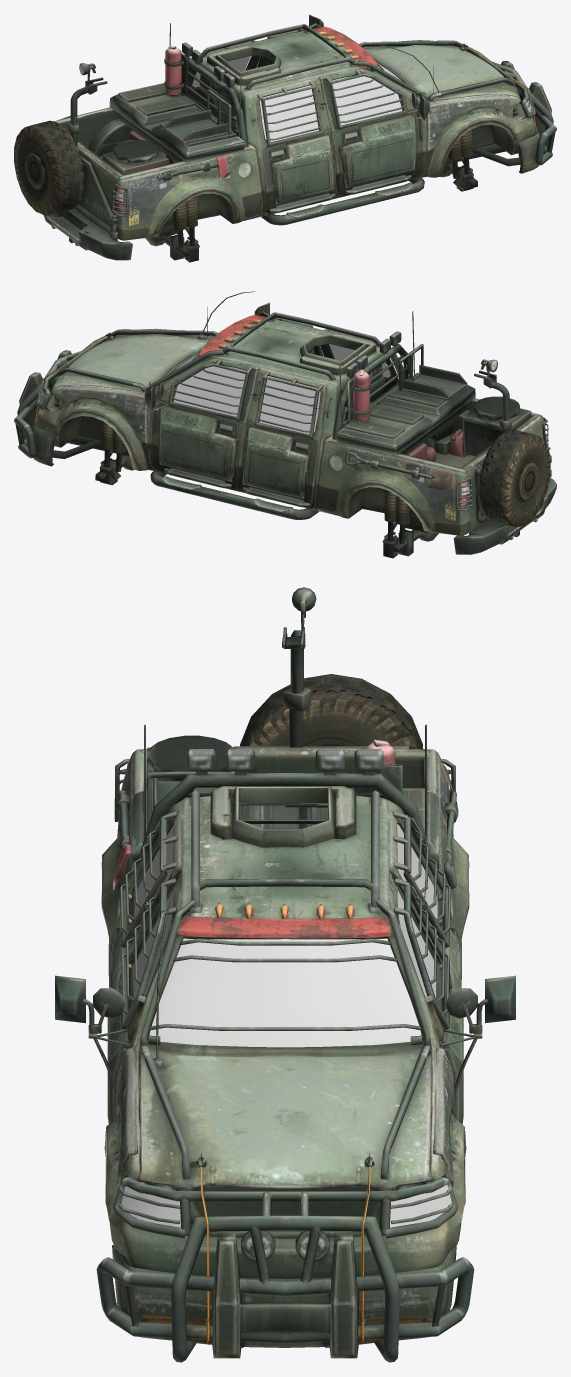
File: chassis.fbx
3 views of the same model, one above another, from view 1: azimuth 30°, elevation 25°; view 2: azimuth 150°, elevation 25°; view 3: azimuth 270°, elevation 25° (orthographic). The views are drawn at different scales.
Parts seen in each view (by area): view 1: _000_Pickup, _003_Pickup; view 2: _000_Pickup, _003_Pickup; view 3: _000_Pickup, _003_Pickup.
Boxes of the visible parts, left/top/right/bottom form: _000_Pickup: left=14, top=14, right=556, bottom=262; _003_Pickup: left=192, top=56, right=531, bottom=141; _000_Pickup: left=14, top=291, right=556, bottom=558; _003_Pickup: left=38, top=341, right=390, bottom=434; _000_Pickup: left=55, top=587, right=515, bottom=1362; _003_Pickup: left=121, top=824, right=451, bottom=1227.
Size of the model in its own units: 1098 by 419 by 448.
2 materials, 1 textured.
